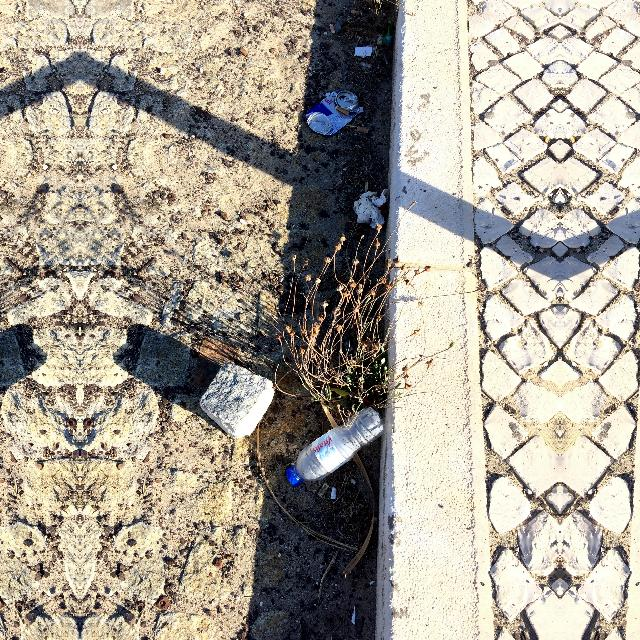Metal: (284, 79, 376, 141)
Paper: (346, 183, 390, 239)
Plastic: (274, 400, 388, 494)
